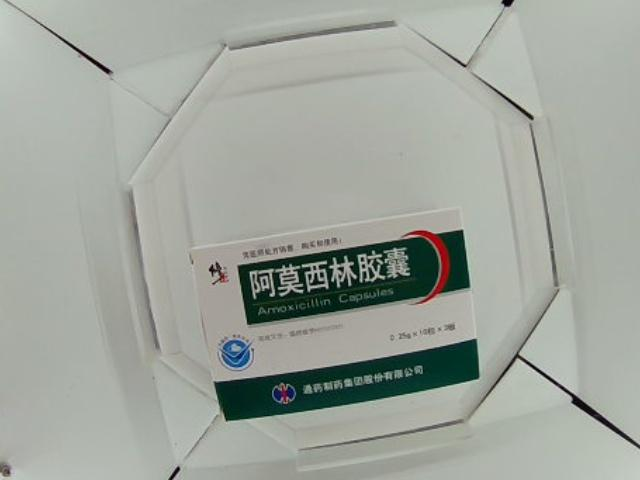Medicine: (188, 206, 481, 421)
